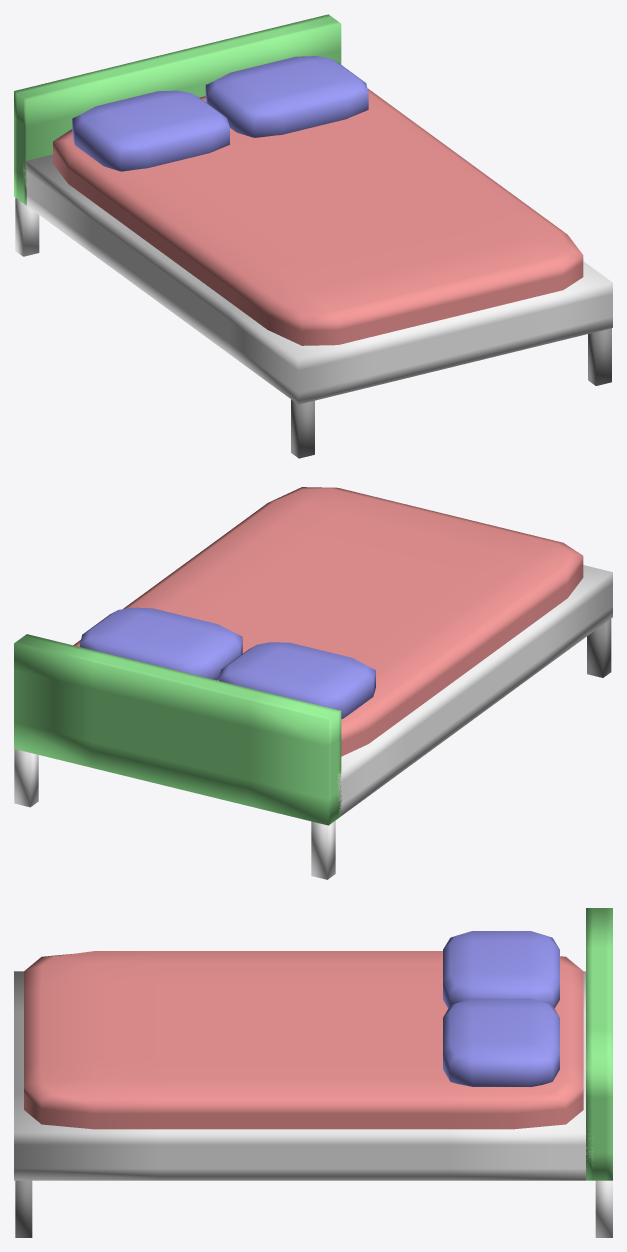
Rendered from bed.gltf.
The picture shows the model from 3 angles, top to bottom: view 1: azimuth 30°, elevation 25°; view 2: azimuth 150°, elevation 25°; view 3: azimuth 270°, elevation 25°; orthographic projection. The views are drawn at different scales.
Visible parts, largest first — view 1: bed; view 2: bed; view 3: bed.
Boxes of the visible parts, x1,y1,x2,y2 form: bed: [14, 14, 612, 458]; bed: [14, 487, 612, 879]; bed: [14, 908, 612, 1237].
Bounding box in the file's own units: 1.73 × 0.8412 × 2.71.
